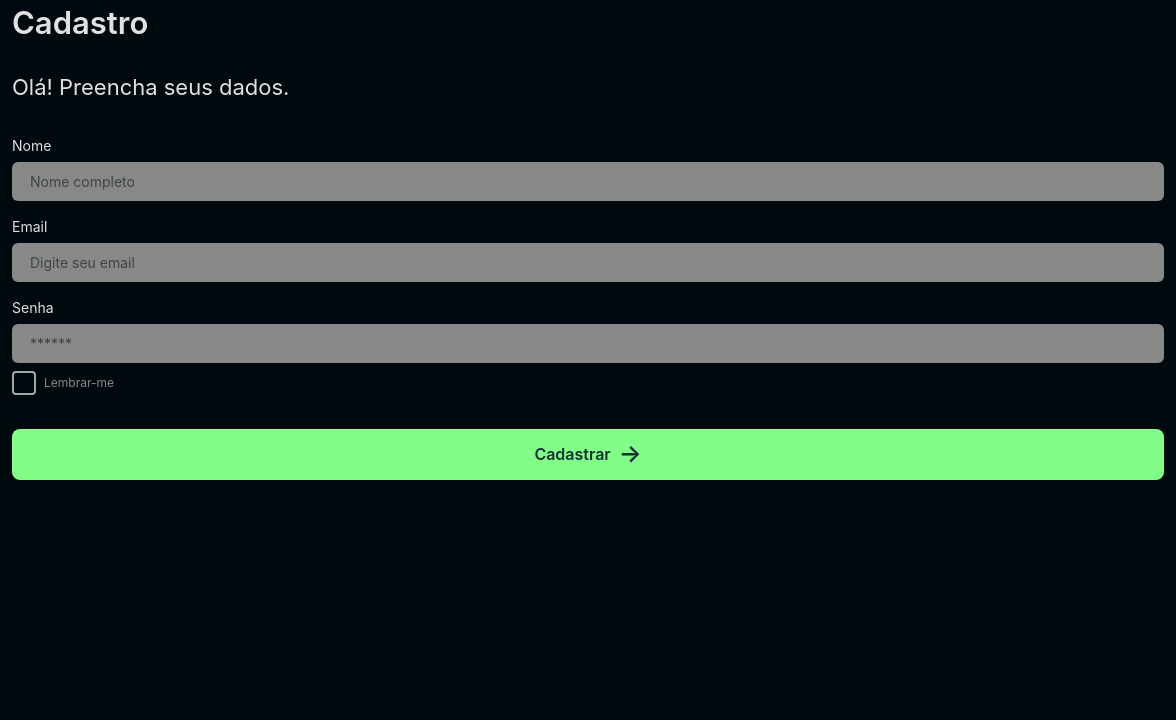
Test case: CadastroForm › rejects an invalid email without submitting and focuses the email field
Type "Ada Lovelace" into the field labelled "Nome" at coordinates (588, 181), box [12, 162, 1164, 200]
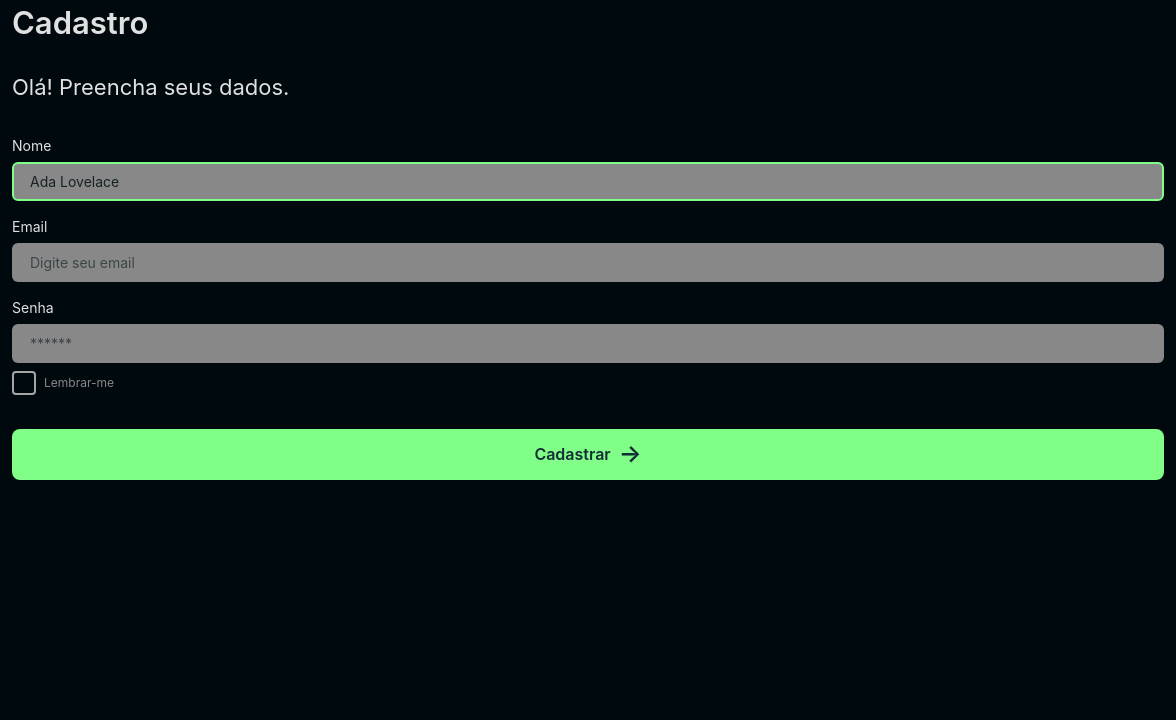
Type "email-invalido" into the field labelled "Email" at coordinates (588, 262), box [12, 242, 1164, 282]
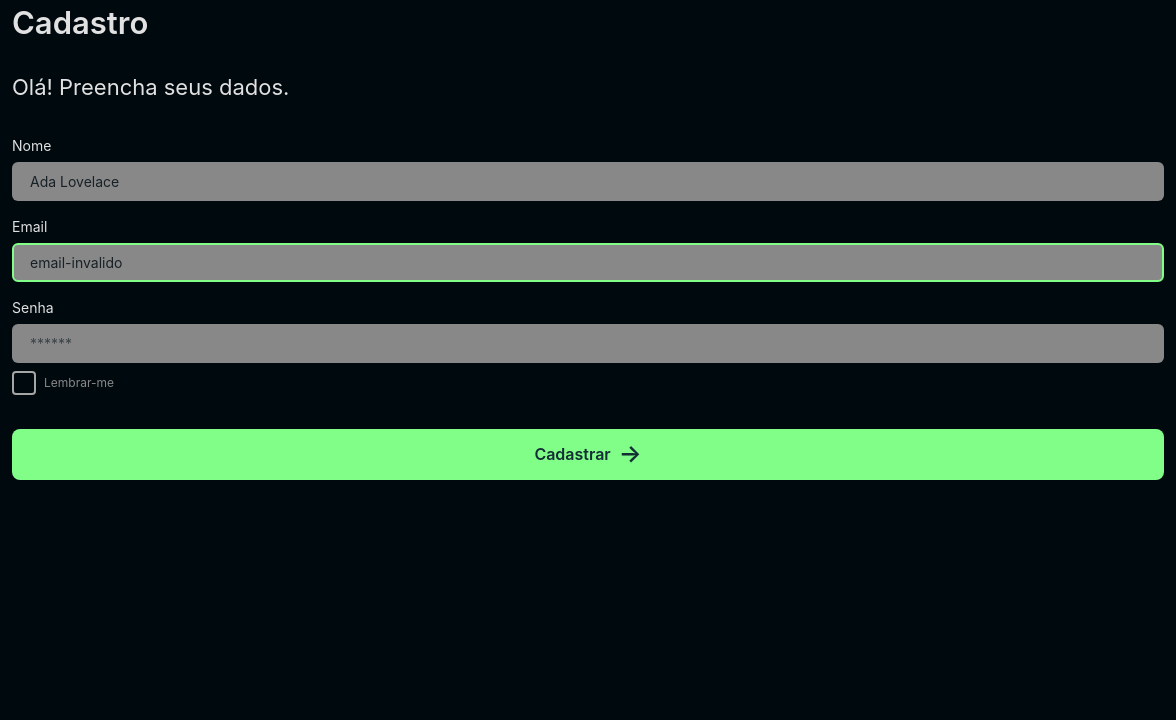
Type "segredo1" into the password field labelled "Senha" at coordinates (588, 343), box [12, 324, 1164, 362]
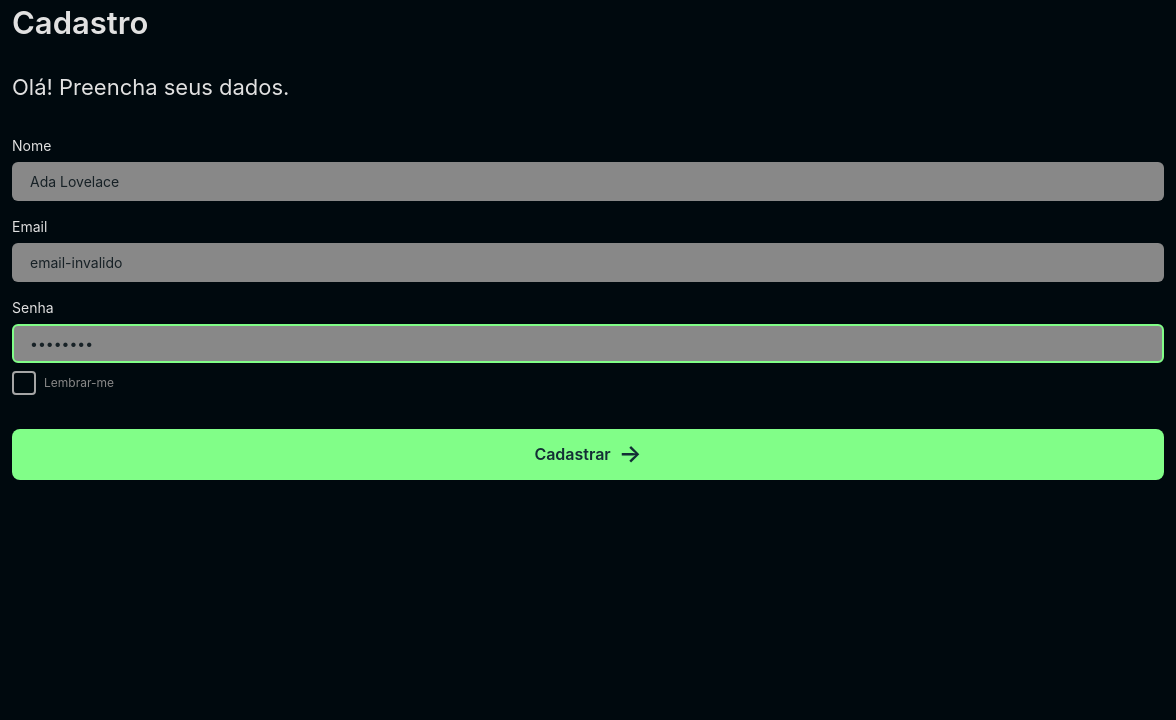
Click the button "Cadastrar →" at coordinates (588, 454), box [12, 428, 1164, 480]
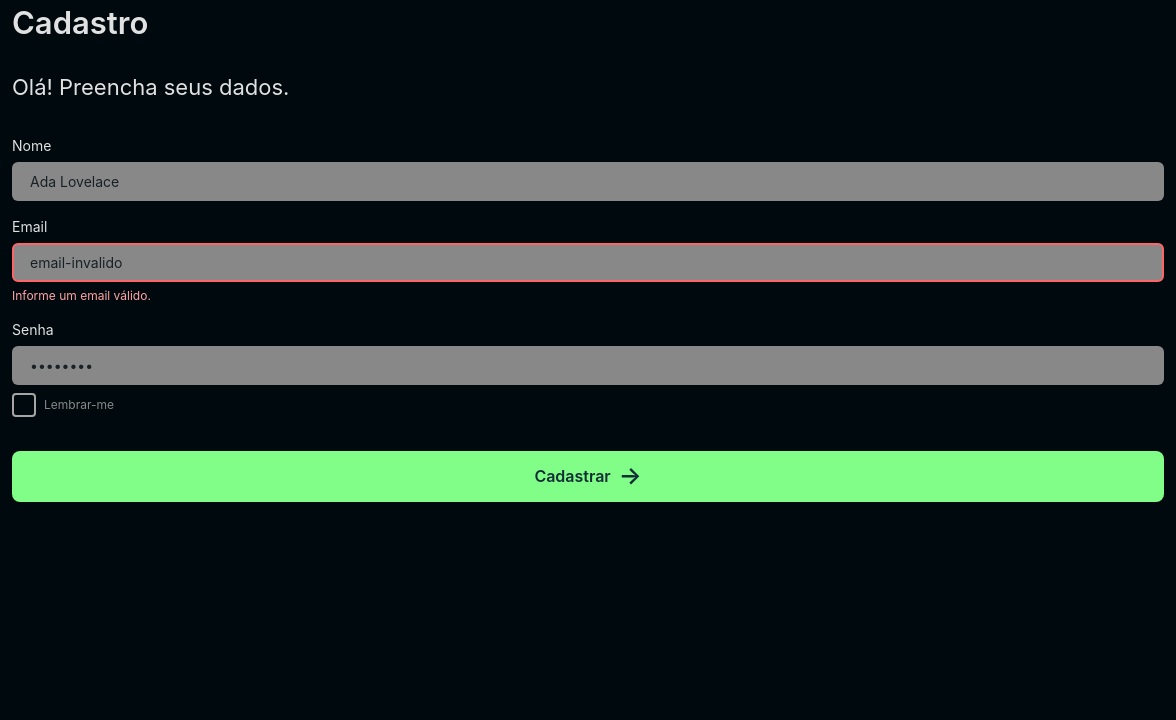
Result: the text "Informe um email válido." is shown at [12, 288, 151, 302]
